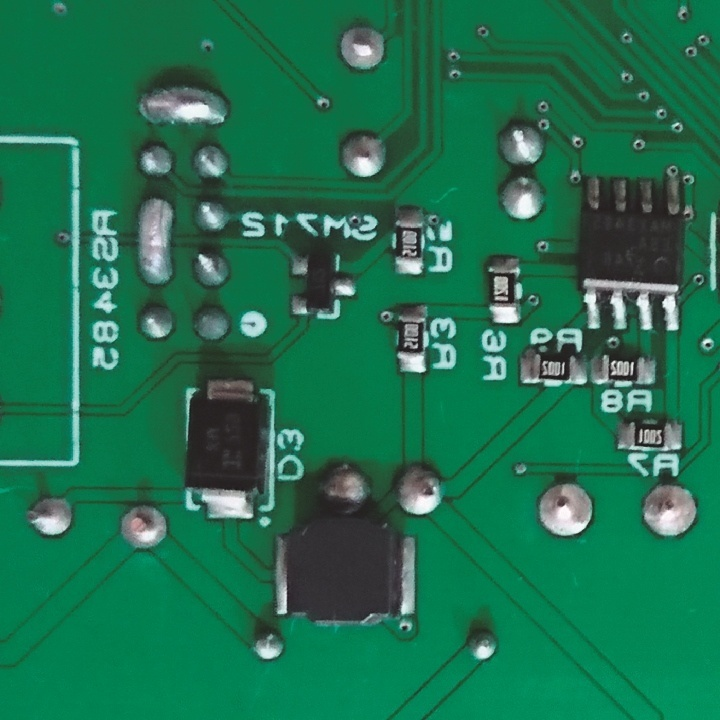F: (533, 479, 593, 538), (639, 482, 699, 540), (333, 22, 391, 72), (119, 501, 170, 554), (21, 495, 80, 540)
P: (133, 80, 232, 130), (133, 190, 177, 289)
